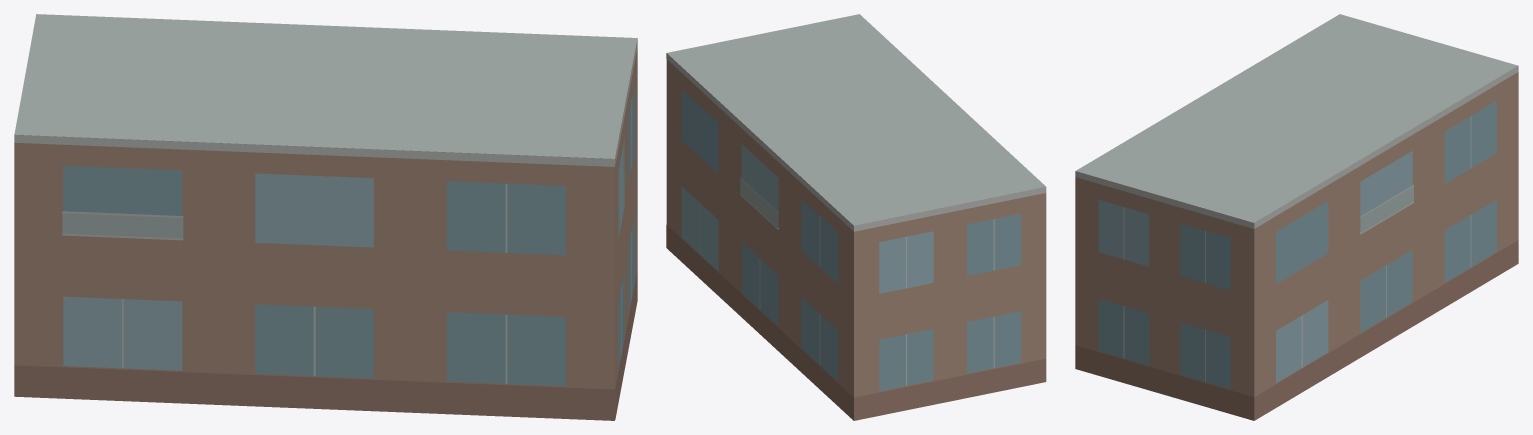
Rendered from survey-upis-32960669.glb.
3 views of the same model, side by side, from view 1: azimuth 30°, elevation 25°; view 2: azimuth 150°, elevation 25°; view 3: azimuth 270°, elevation 25° (orthographic). The views are drawn at different scales.
Visible parts, largest first — view 1: survey-upis-32960669.tmp; view 2: survey-upis-32960669.tmp; view 3: survey-upis-32960669.tmp.
Boxes of the visible parts, x1=… form: survey-upis-32960669.tmp: x1=14, y1=14, x2=637, y2=420; survey-upis-32960669.tmp: x1=666, y1=14, x2=1046, y2=420; survey-upis-32960669.tmp: x1=1075, y1=14, x2=1518, y2=420.
Bounding box in the file's own units: 18.01 × 7.95 × 16.14.
